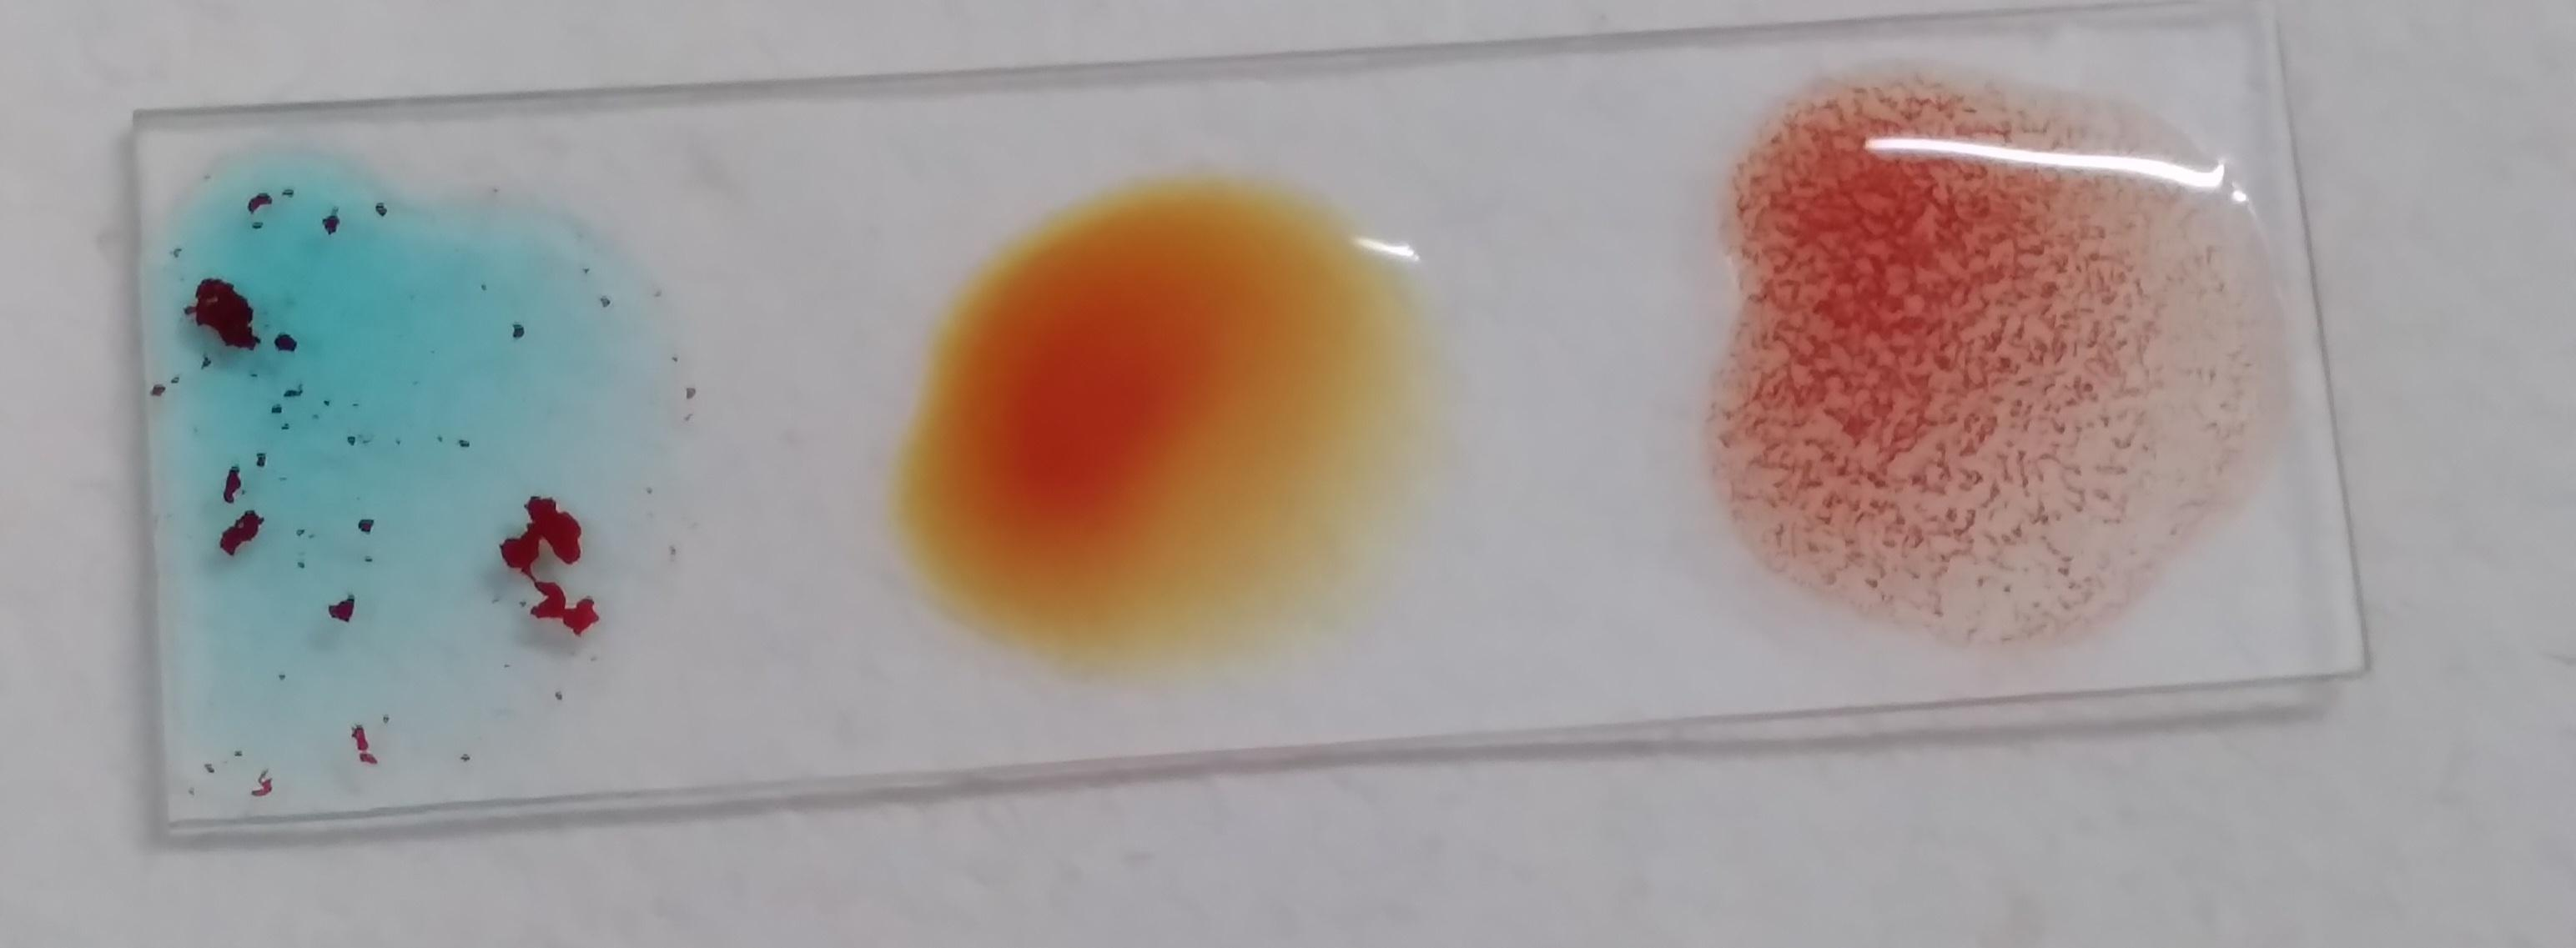A: (151, 161, 651, 782)
D: (1710, 99, 2223, 642)
